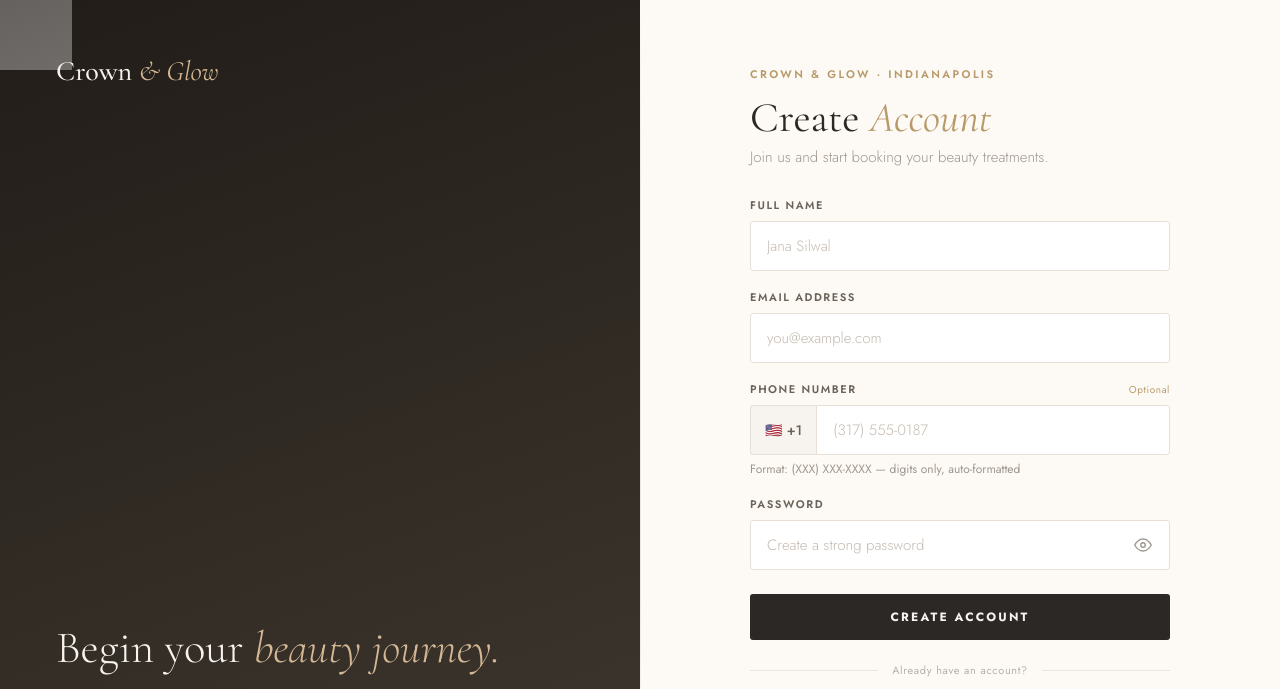
Test: <RegisterPage /> › disables submit while the password fails requirements and enables it once valid
Type "weak" into the password field labelled "Password" at [960, 545], box [750, 520, 1170, 570]
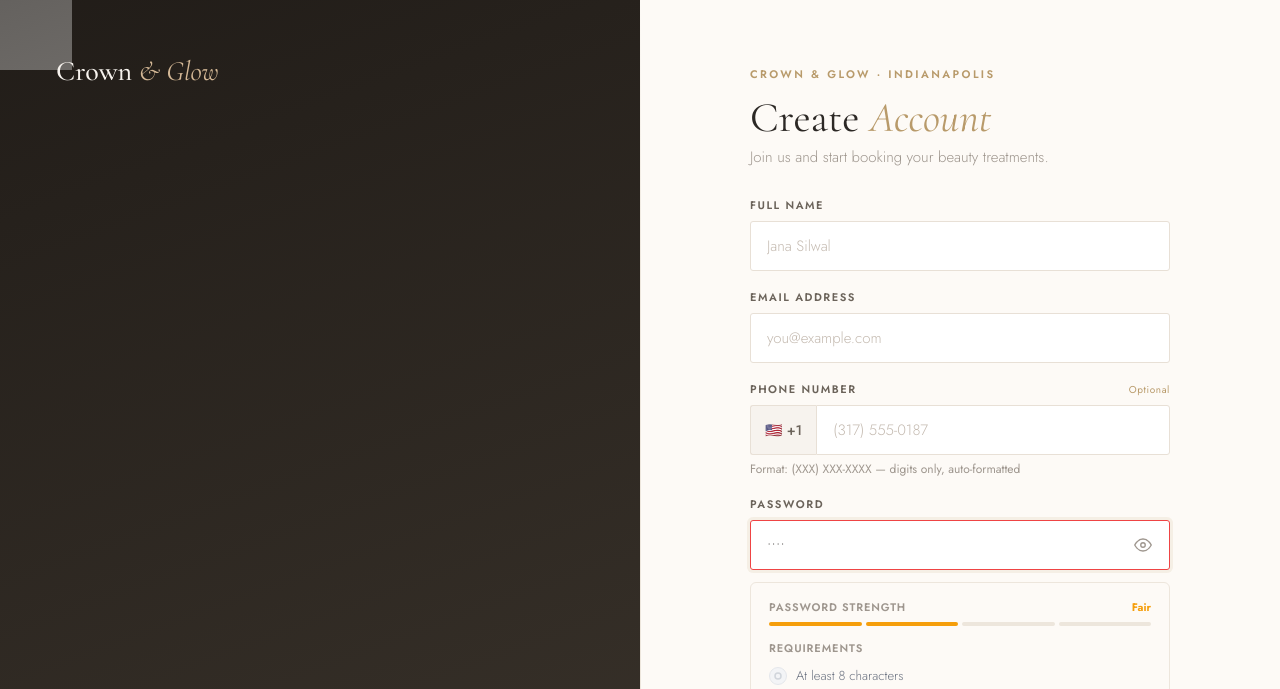
Type "TestPass123!" into the password field labelled "Password" at [960, 545], box [750, 520, 1170, 570]
(page scrolled)
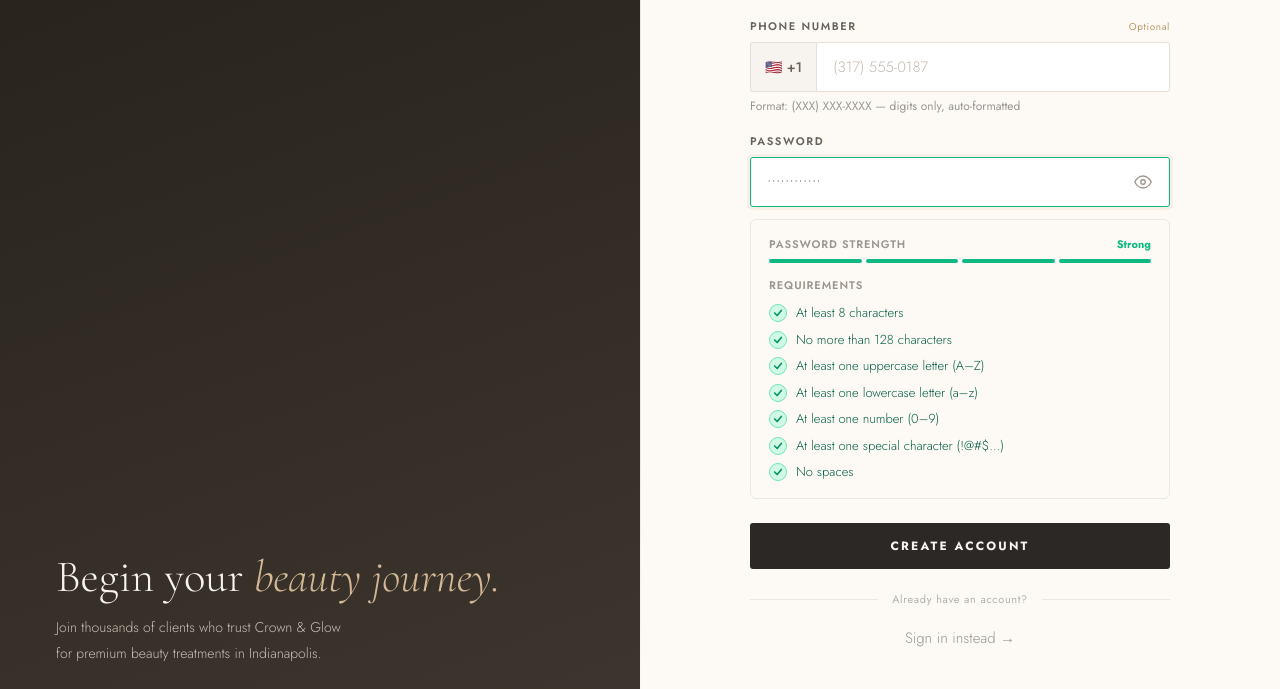
Expected: the button "Create Account" is enabled, [750, 523, 1170, 569]
